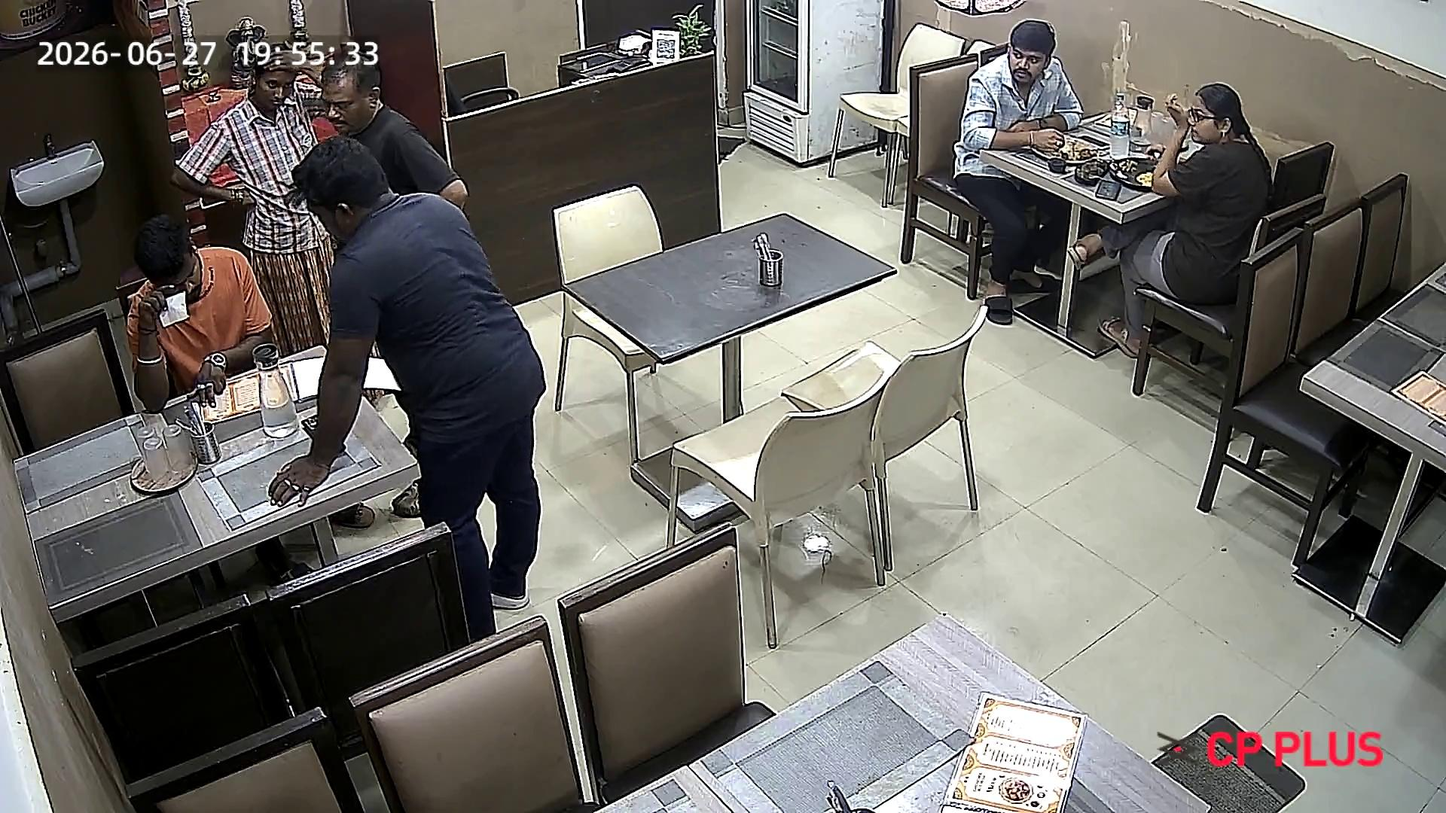clean: (596, 603, 1219, 813), (559, 206, 903, 367)
occupied: (2, 274, 435, 539), (918, 25, 1284, 262)
